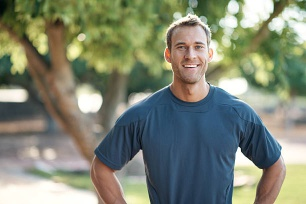male: (163, 15, 214, 85)
